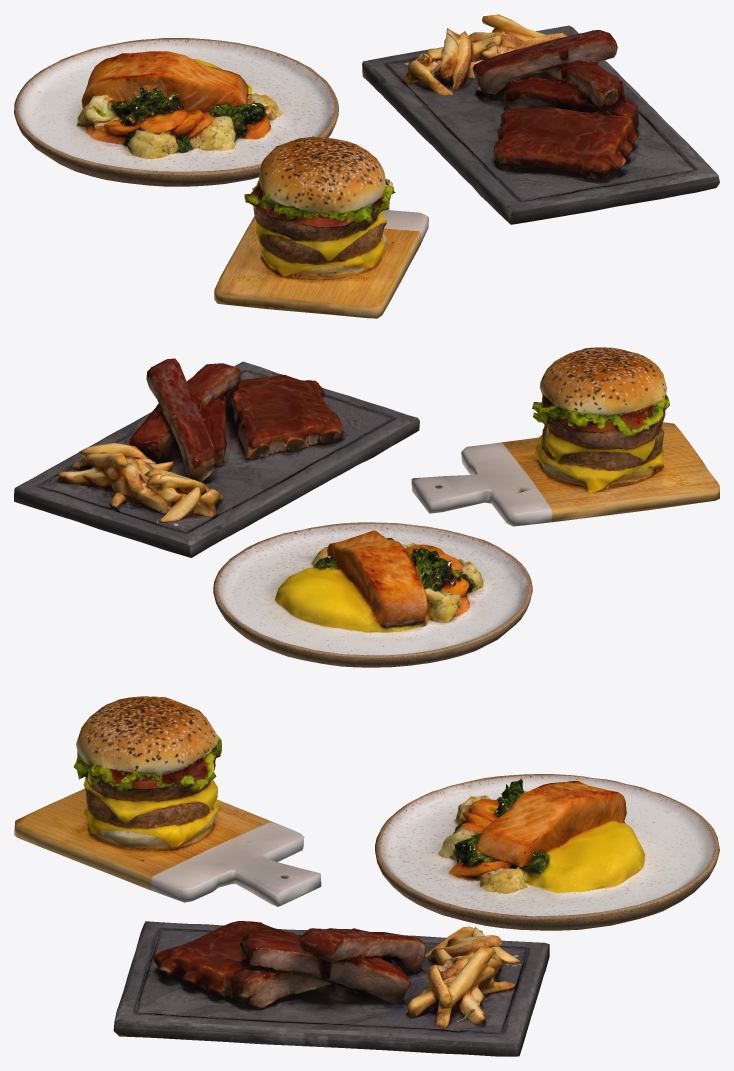
Rendered from seara.glb.
The picture shows the model from 3 angles, top to bottom: view 1: azimuth 30°, elevation 25°; view 2: azimuth 150°, elevation 25°; view 3: azimuth 270°, elevation 25°; orthographic projection. The views are drawn at different scales.
Visible parts, largest first — view 1: Barbecue_Remeshed, Salmon_Remeshed, Hamburguer_Remeshed; view 2: Barbecue_Remeshed, Salmon_Remeshed, Hamburguer_Remeshed; view 3: Barbecue_Remeshed, Salmon_Remeshed, Hamburguer_Remeshed.
Part boxes in pixels (box(x1,y1,x2,y2)): Barbecue_Remeshed: box(362, 14, 719, 224); Salmon_Remeshed: box(14, 38, 338, 186); Hamburguer_Remeshed: box(214, 136, 428, 318); Barbecue_Remeshed: box(14, 358, 419, 557); Salmon_Remeshed: box(213, 522, 532, 667); Hamburguer_Remeshed: box(411, 347, 719, 526); Barbecue_Remeshed: box(113, 921, 549, 1056); Salmon_Remeshed: box(375, 774, 719, 930); Hamburguer_Remeshed: box(14, 696, 321, 906).
Size of the model in its own units: 12.37 by 2.69 by 13.32.
Materials: 3 (3 with a texture image).
